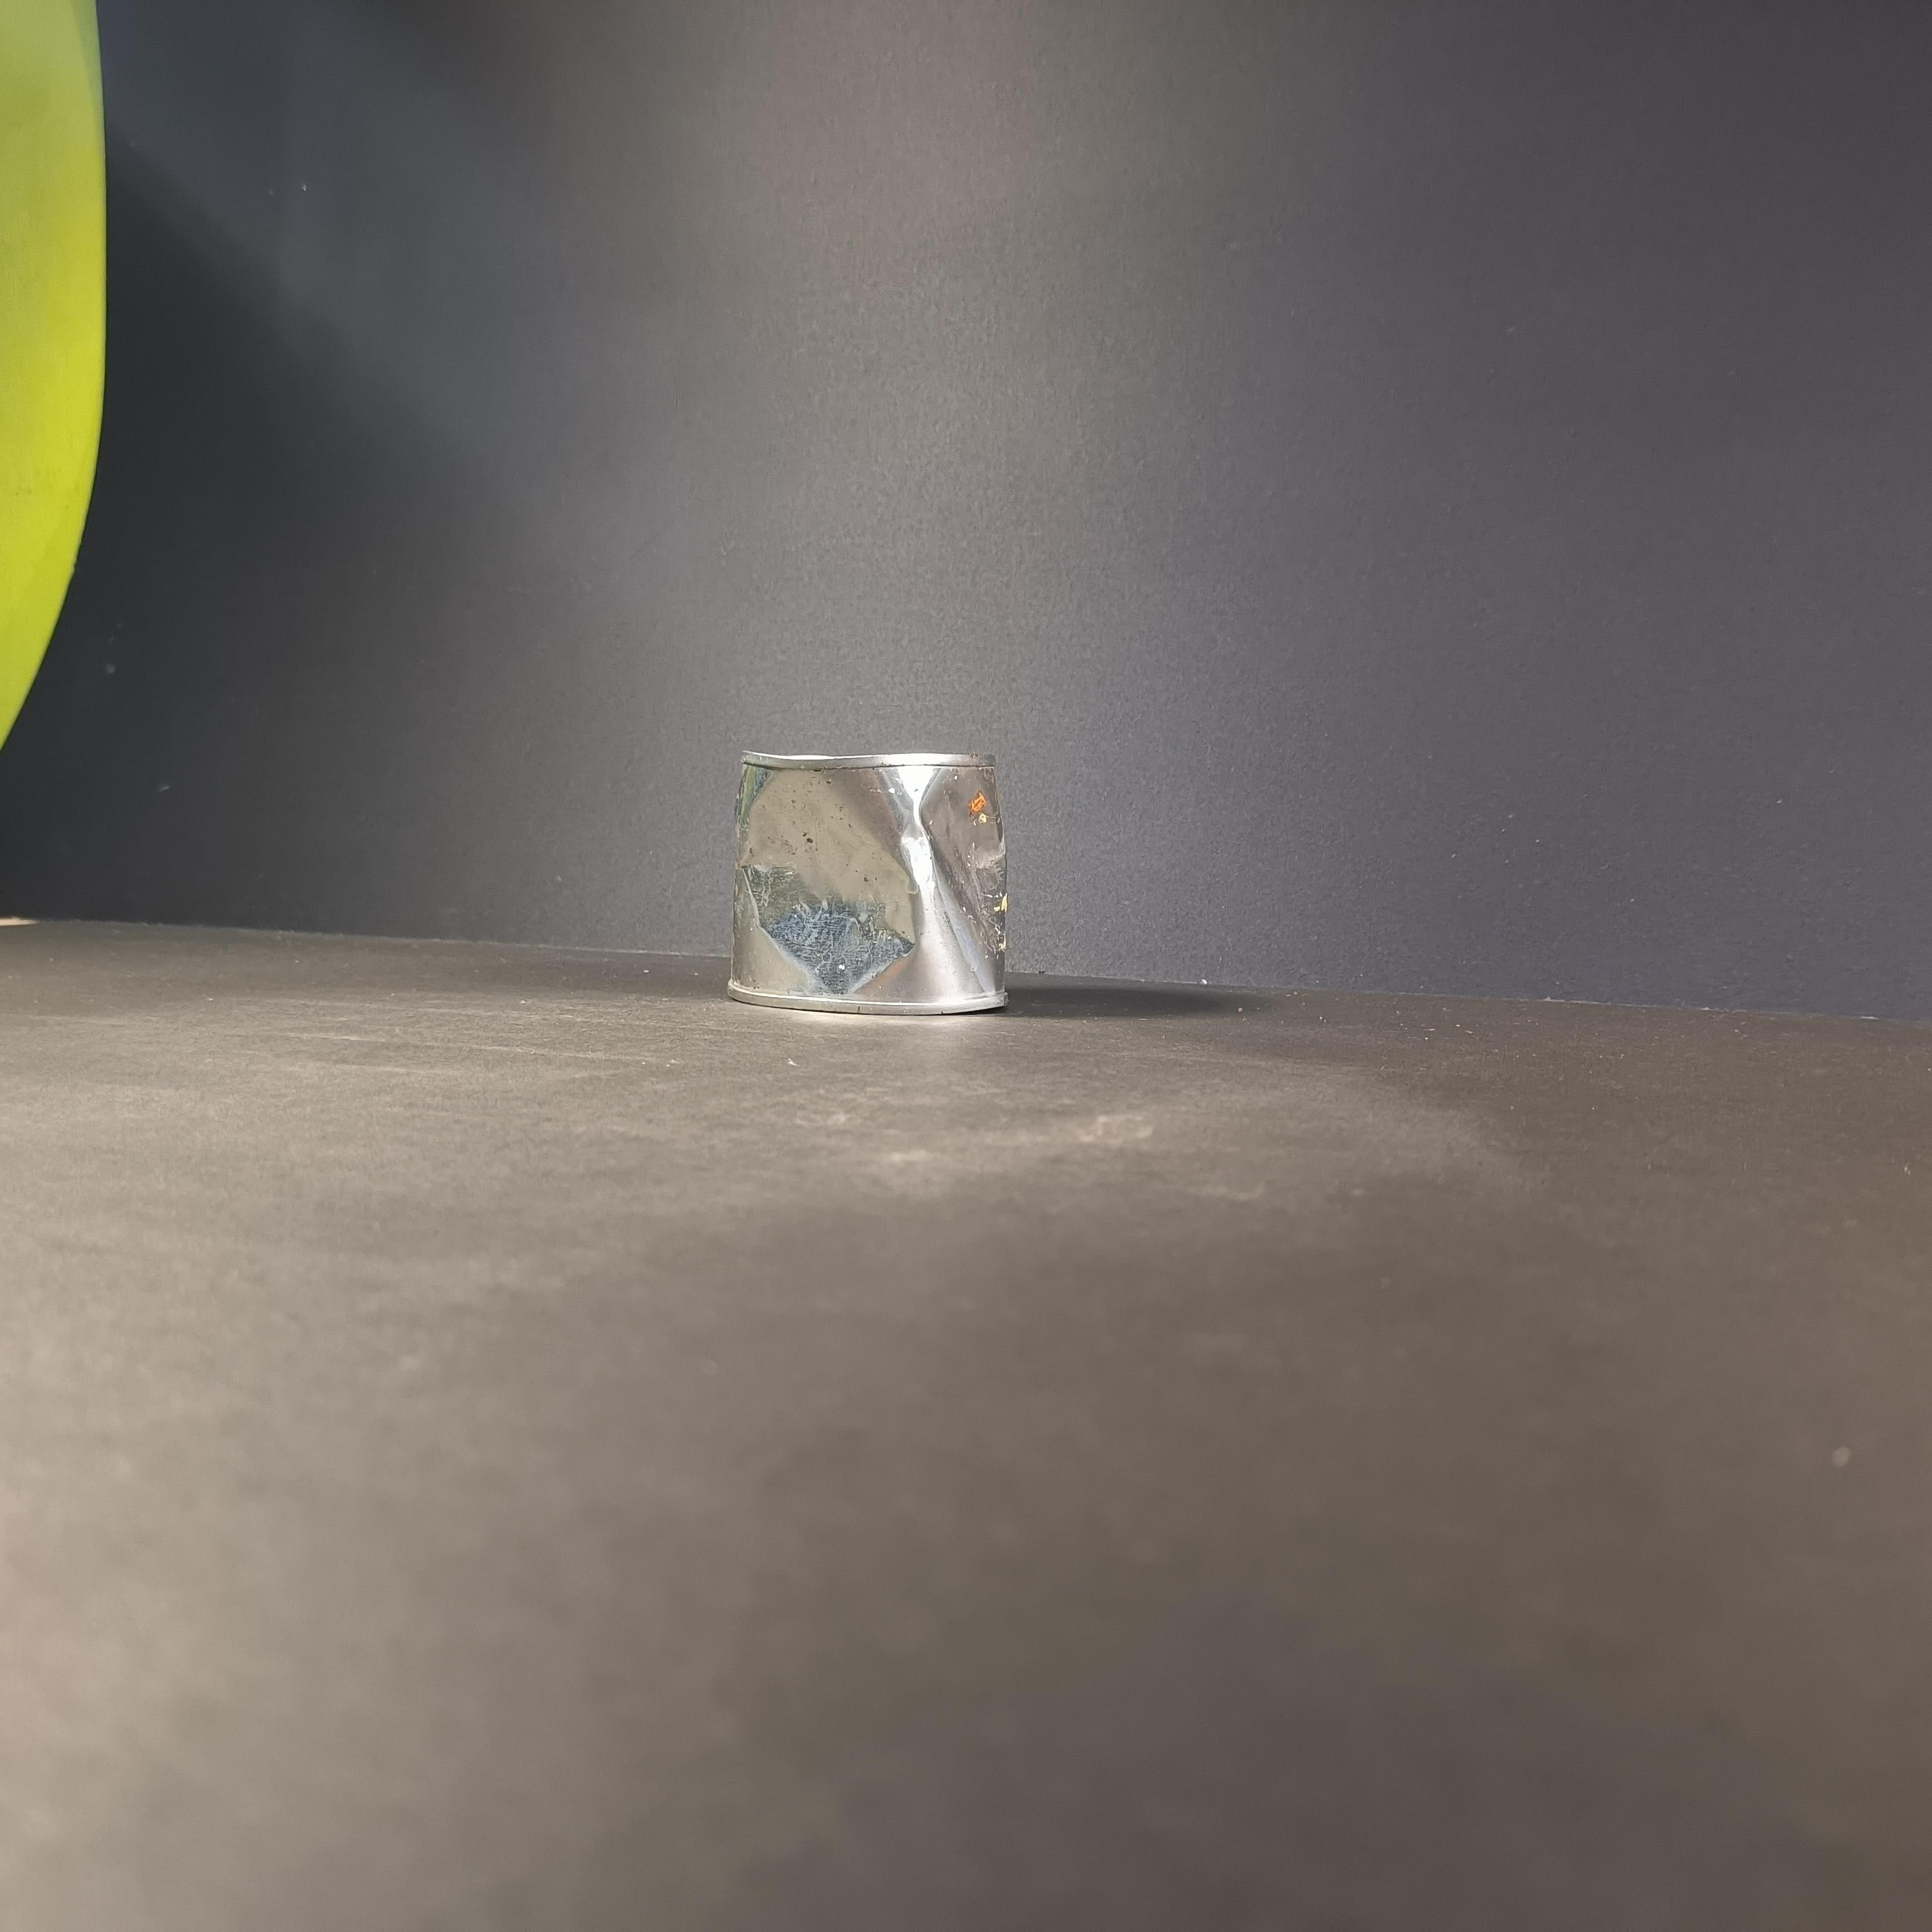Dented: (706, 734, 1026, 1039)
